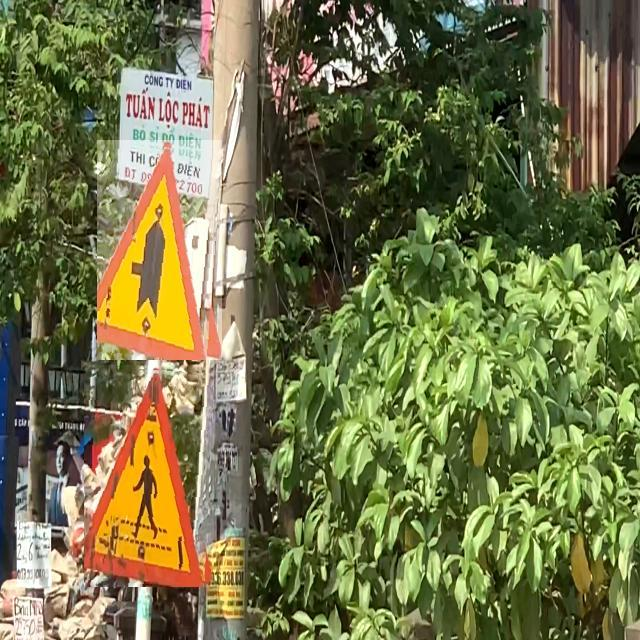W-207c: (97, 140, 222, 360)
W-224: (84, 365, 214, 587)
